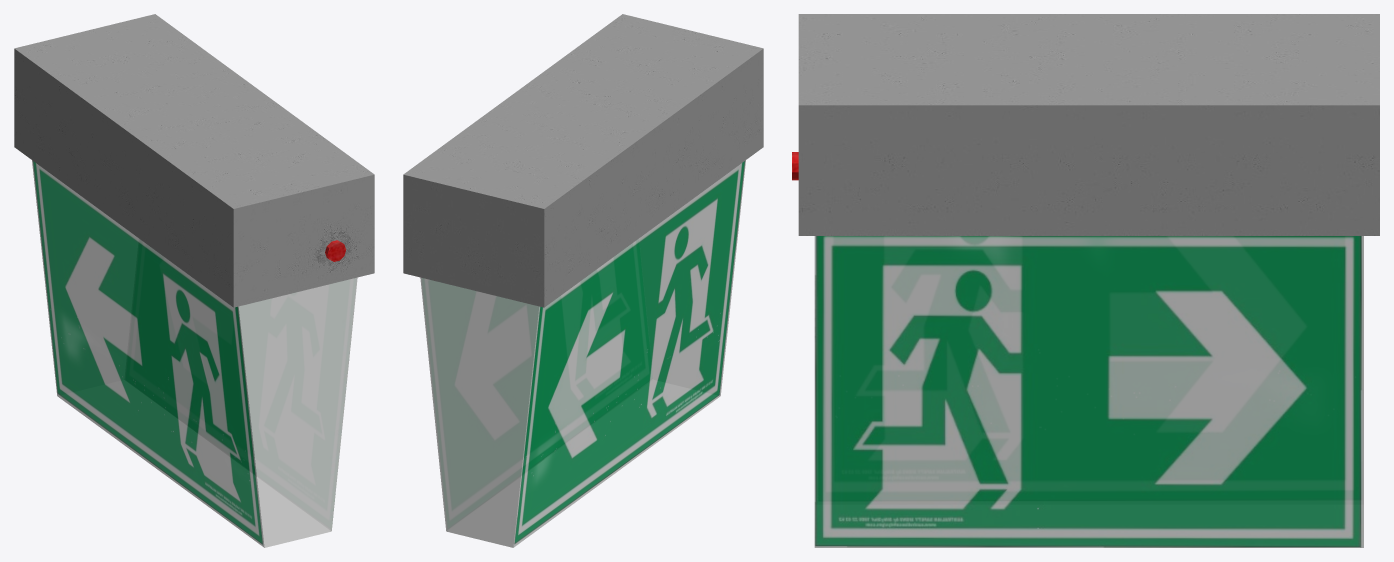
Rendered from low-poly_exit_light_ceiling_sign_light.glb.
3 views of the same model, side by side, from view 1: azimuth 30°, elevation 25°; view 2: azimuth 150°, elevation 25°; view 3: azimuth 270°, elevation 25° (orthographic). The views are drawn at different scales.
Visible parts, largest first — view 1: ExitLight; view 2: ExitLight; view 3: ExitLight.
Part boxes in pixels (x1,y1,x2,y2): ExitLight: [14, 14, 374, 547]; ExitLight: [403, 14, 763, 547]; ExitLight: [792, 14, 1379, 547].
Bounding box in the file's own units: 7.41 × 17.68 × 20.18.
Materials: 2 (2 with a texture image).
